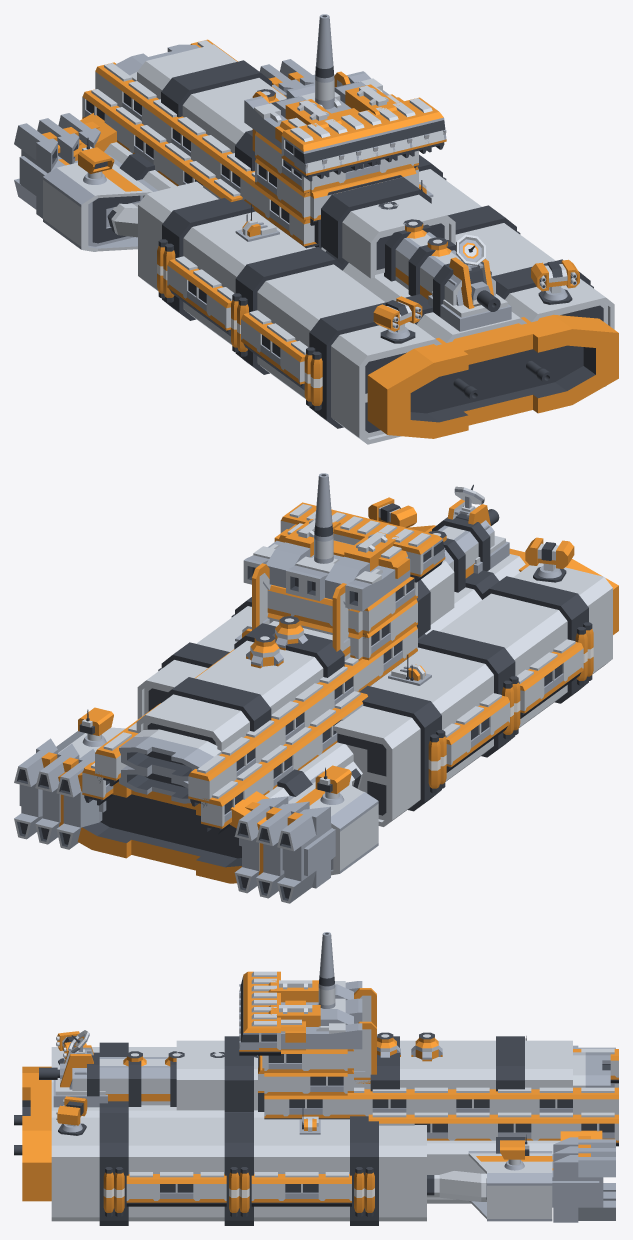
File: croiseur_lourd_3.glb
The picture shows the model from 3 angles, top to bottom: view 1: azimuth 30°, elevation 25°; view 2: azimuth 150°, elevation 25°; view 3: azimuth 270°, elevation 25°; orthographic projection. The views are drawn at different scales.
Visible parts, largest first — view 1: mergedBlocks(Clone); view 2: mergedBlocks(Clone); view 3: mergedBlocks(Clone).
Part boxes in pixels (left/top/right/bottom): mergedBlocks(Clone): left=14, top=14, right=618, bottom=444; mergedBlocks(Clone): left=14, top=473, right=618, bottom=903; mergedBlocks(Clone): left=14, top=932, right=618, bottom=1225.
Bounding box in the file's own units: 7 × 6.4 × 14.5.
Materials: 1 (1 with a texture image).
